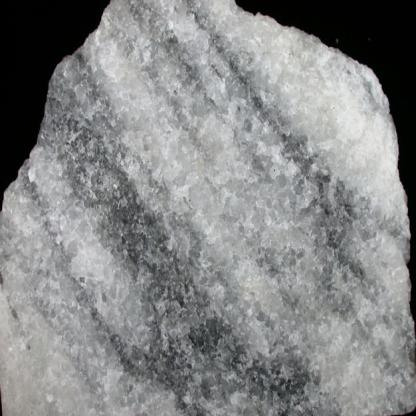Metamorphic_Marble: (1, 0, 414, 415)
